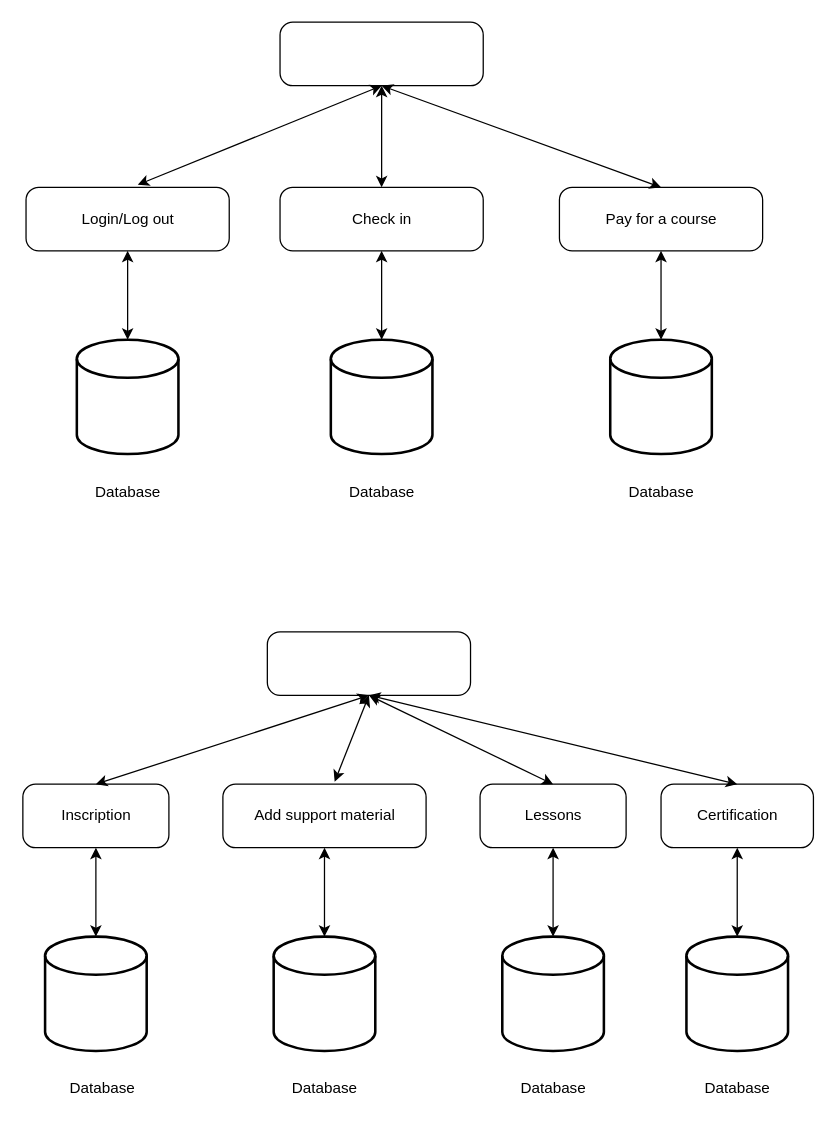
Image size: 836x1124. Some labels were removed from this diagram. Each missing label, with the centre of its shape:
"Cursos" goes at (x=368, y=663).
"User" goes at (x=381, y=53).
